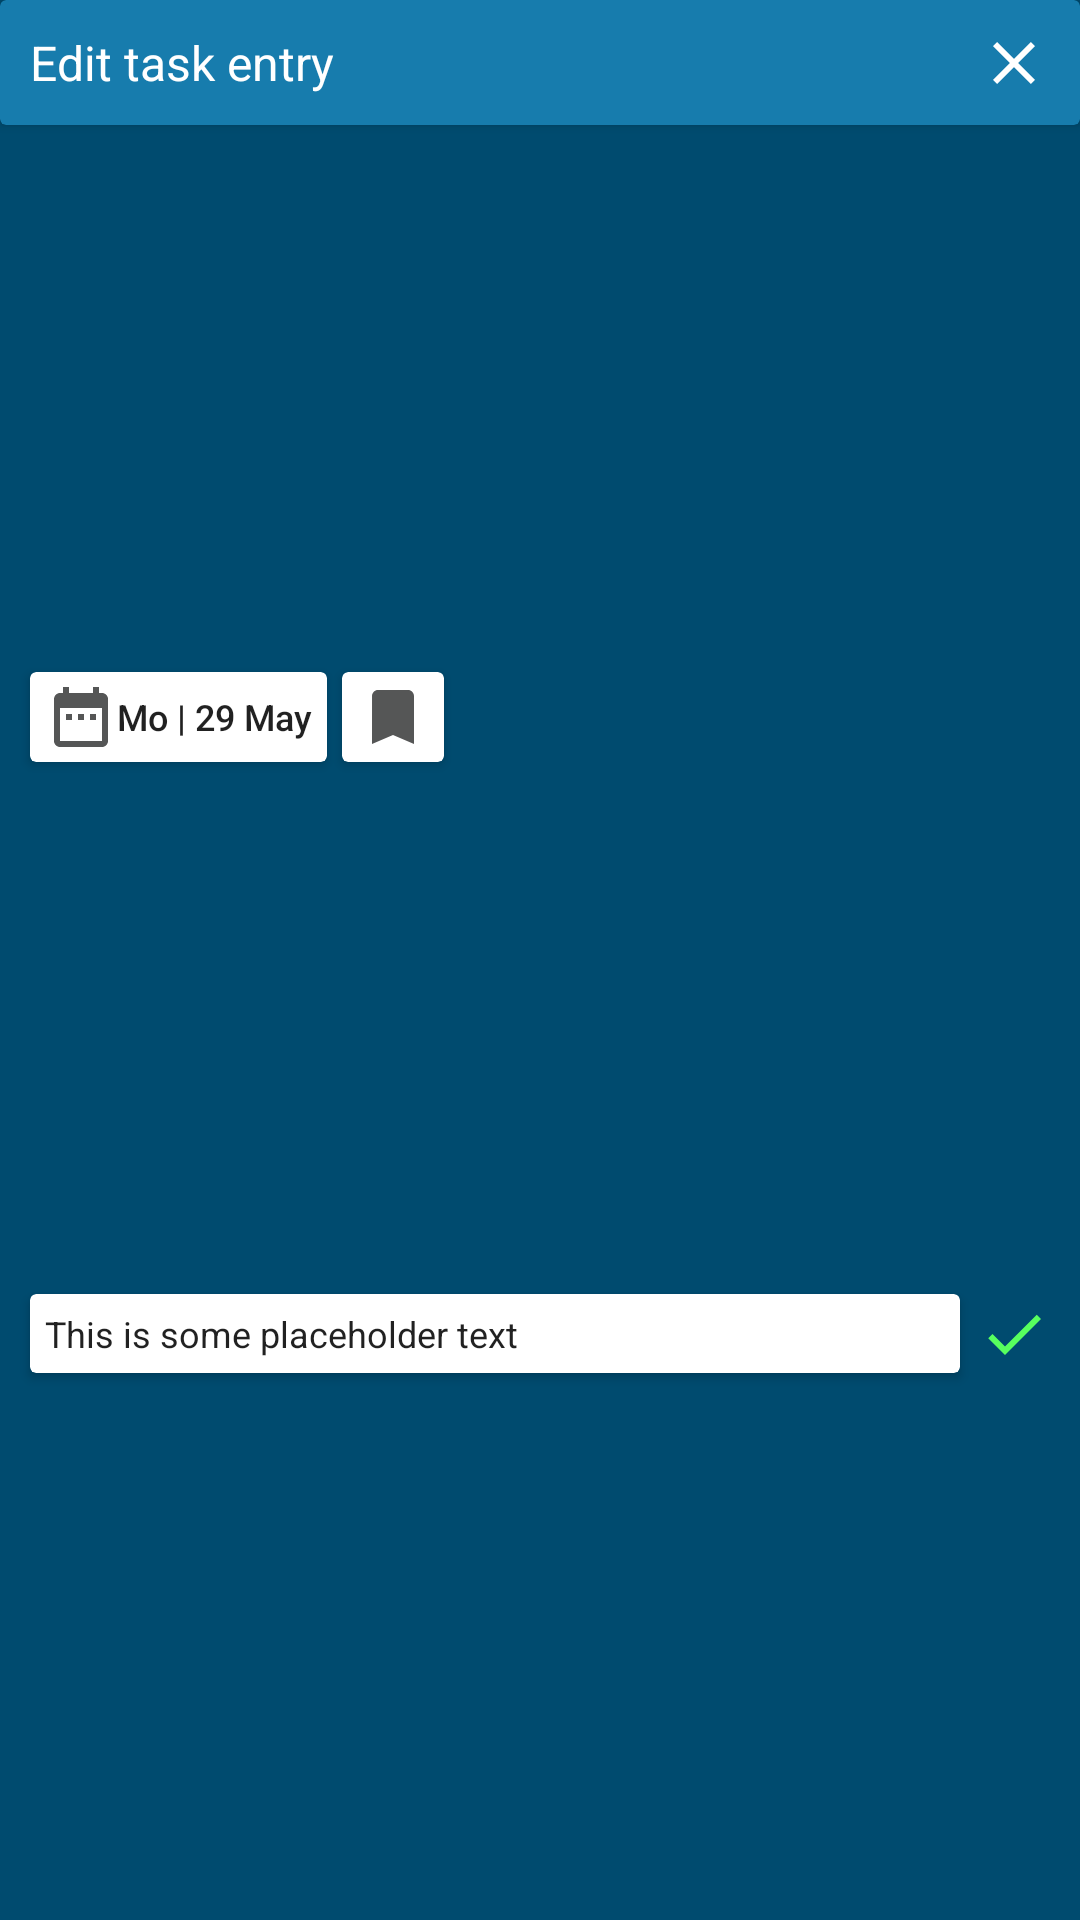

Where to tap for icons on this 1080px x 1920px app screen, as (x,y):
check: (1014,1335)
close: (1014,63)
tag base: (393,717)
